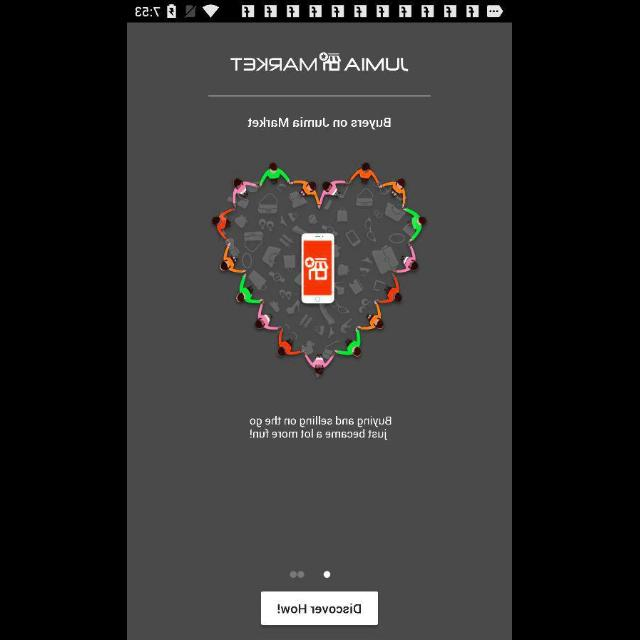image: (212, 161, 430, 379), (230, 53, 410, 73)
pageindicator: (290, 570, 332, 580)
text: (250, 415, 392, 441), (248, 116, 392, 130)
textbutton: (262, 592, 378, 626)
uppertaskbar: (128, 1, 512, 23)
